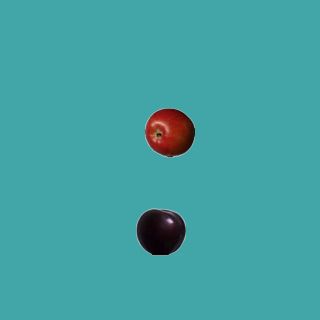Apple Braeburn: (144, 107, 194, 157)
Cherry Wax Black: (135, 206, 185, 256)
